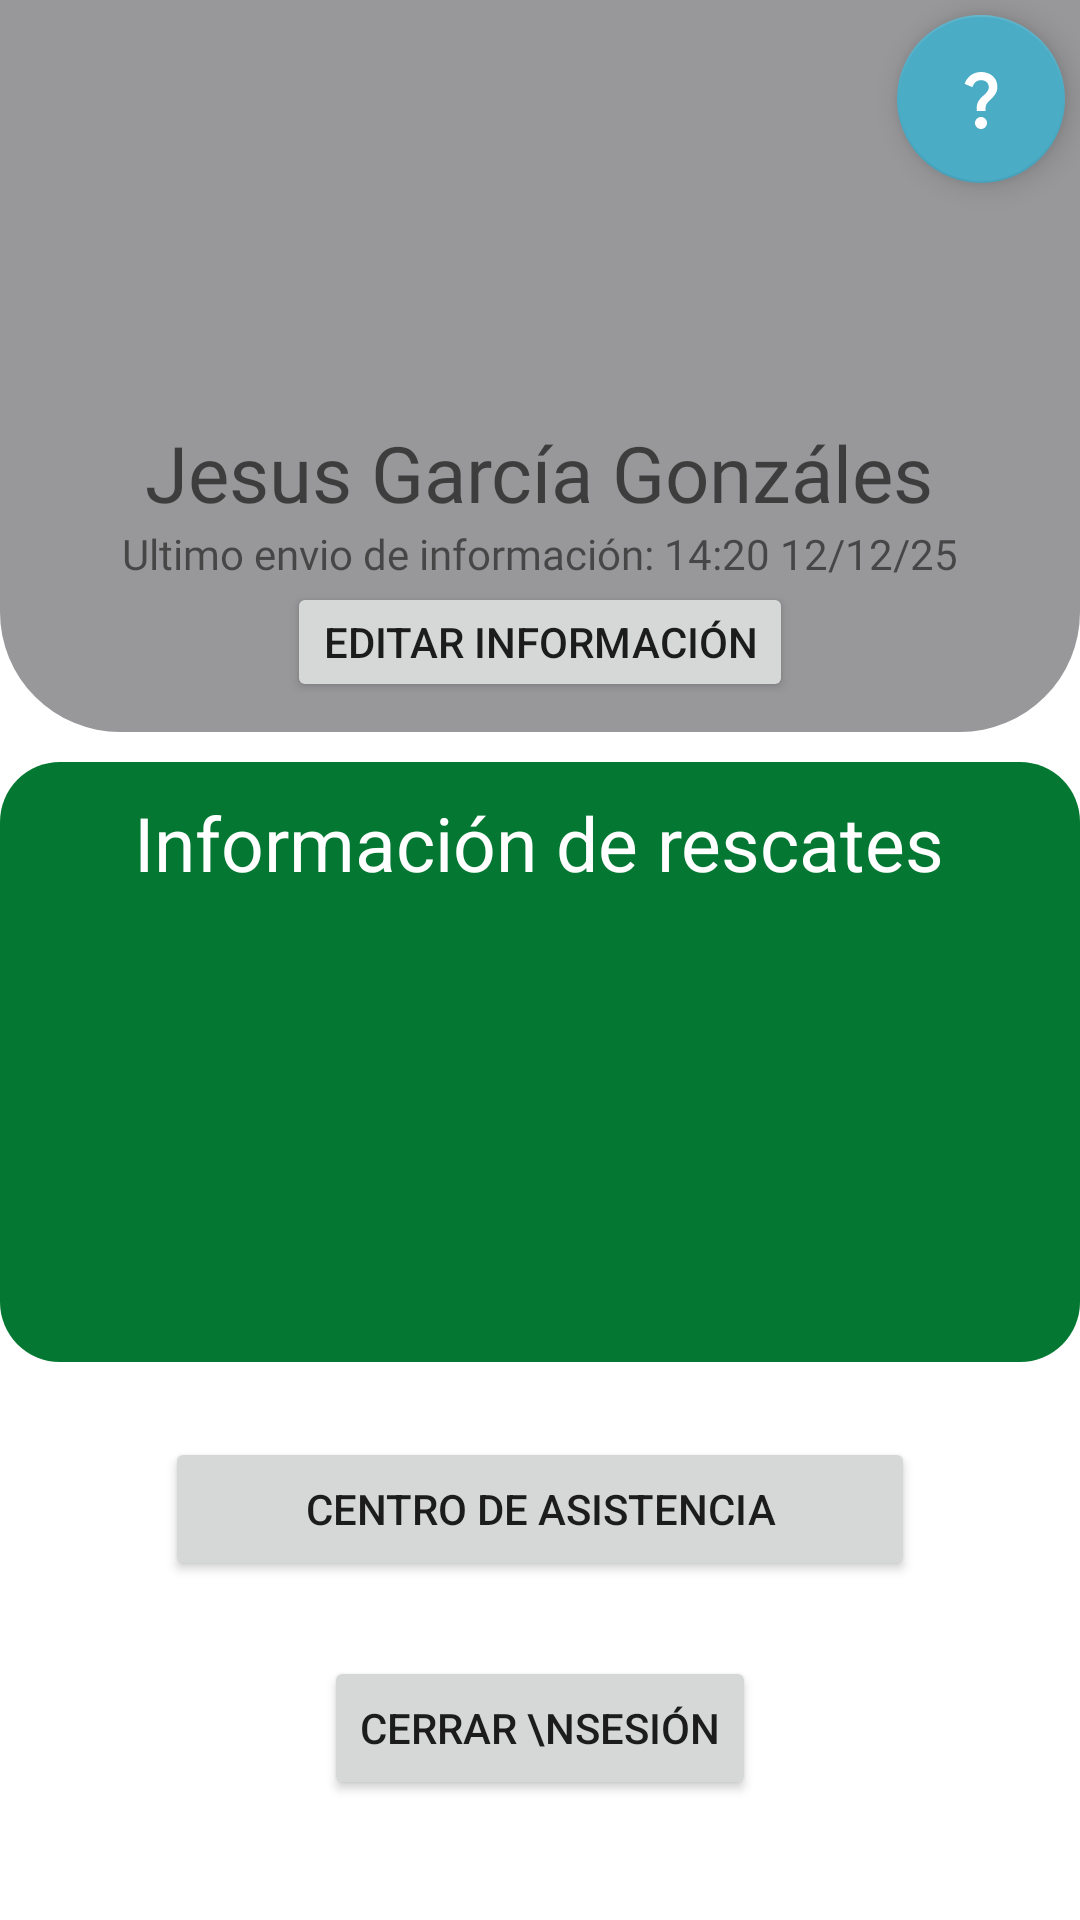

Where icons sit on this 1080×1920 app screen, as BBox(x1, y1, x2, y2):
question mark: BBox(897, 15, 1065, 183)
